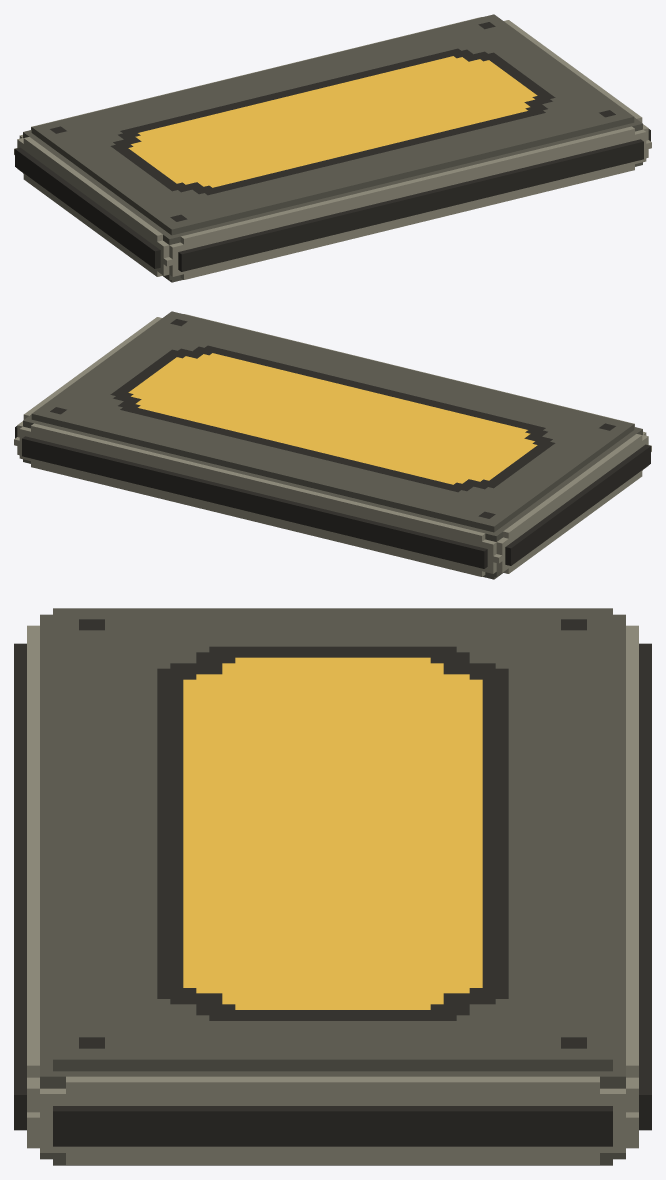
Rendered from factory4.3-45.obj.
The picture shows the model from 3 angles, top to bottom: view 1: azimuth 30°, elevation 25°; view 2: azimuth 150°, elevation 25°; view 3: azimuth 270°, elevation 25°; orthographic projection. The views are drawn at different scales.
Bounding box in the file's own units: 8.8 × 0.9 × 4.9.
1 material, 1 textured.
